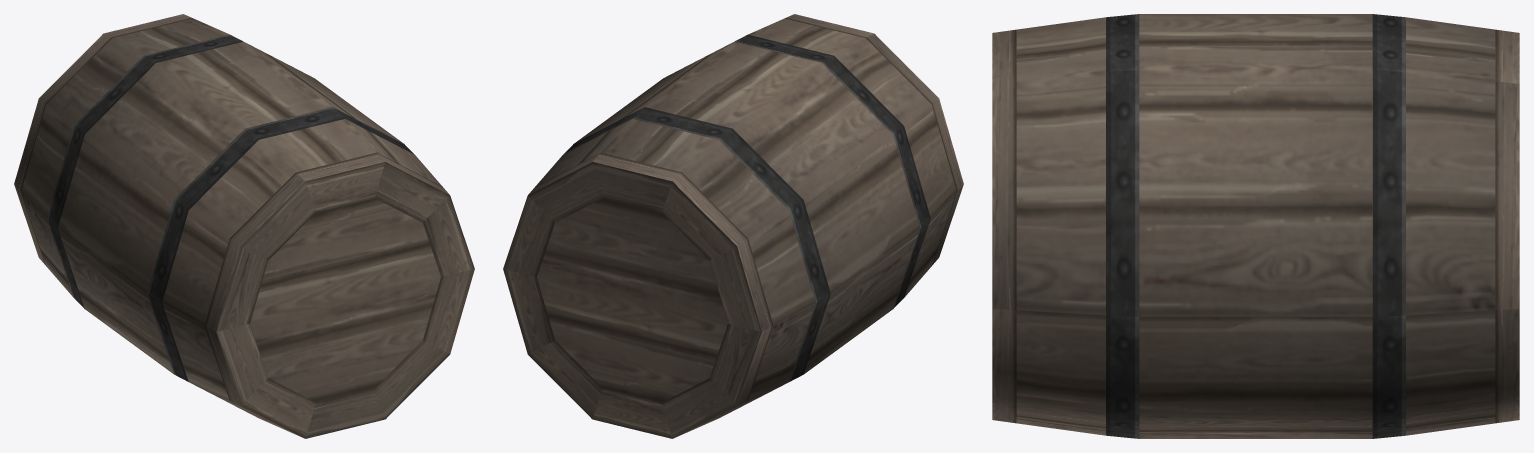
Rendered from Barrel_A.fbx.
3 views of the same model, side by side, from view 1: azimuth 30°, elevation 25°; view 2: azimuth 150°, elevation 25°; view 3: azimuth 270°, elevation 25° (orthographic). The views are drawn at different scales.
Visible parts, largest first — view 1: Barrel_A; view 2: Barrel_A; view 3: Barrel_A.
Boxes of the visible parts, left/top/right/bottom form: Barrel_A: left=14, top=14, right=474, bottom=438; Barrel_A: left=503, top=14, right=963, bottom=438; Barrel_A: left=992, top=14, right=1519, bottom=438.
Bounding box in the file's own units: 0.889 × 0.8455 × 1.1.
